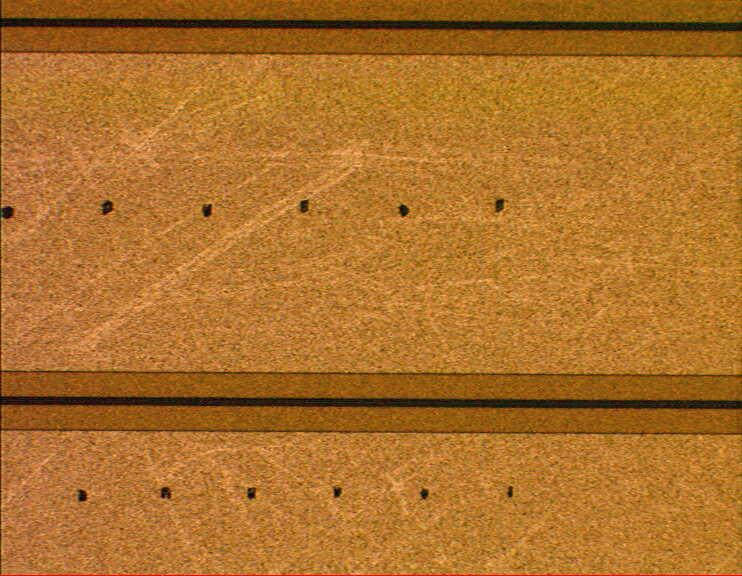SCRATCH: (1, 53, 742, 576)
